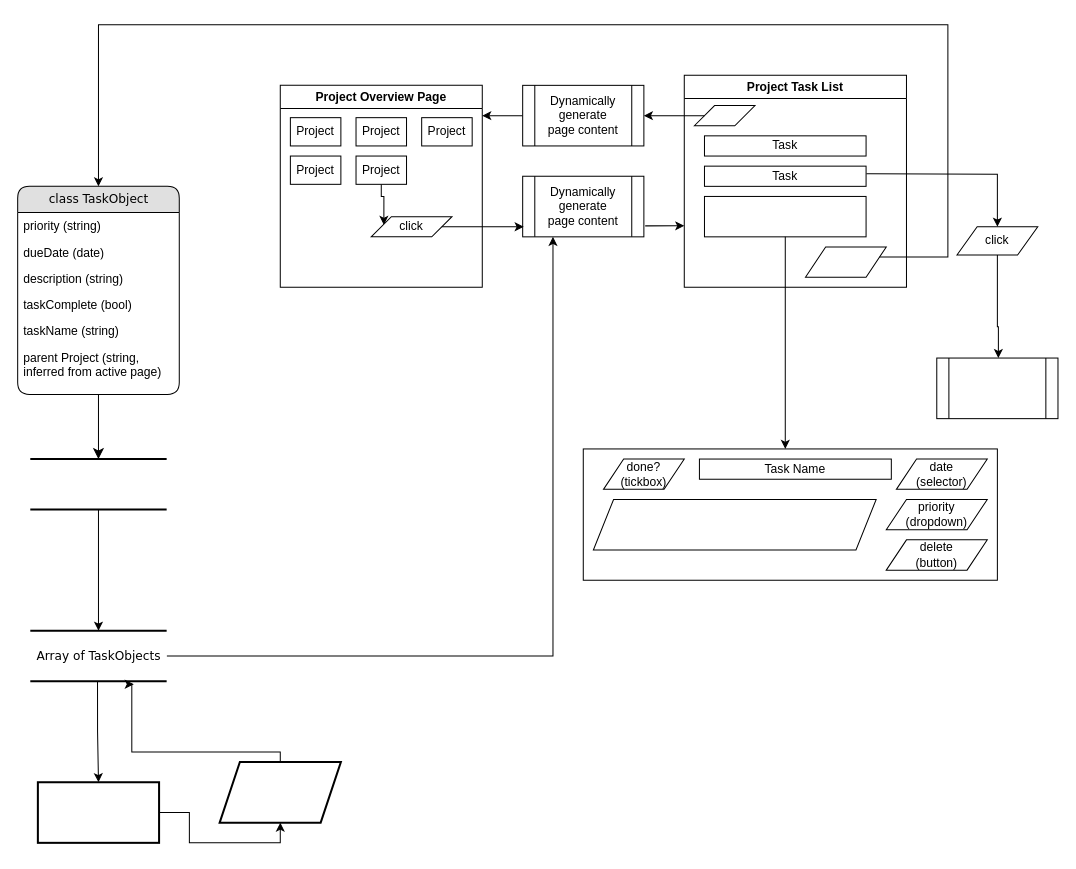
This 1076x869 diagram has some shape labels left out. The shapes that lost their labels are listed below. From the top down, each one's centre as x and y in pixels, then its label:
point (724, 115): back
point (784, 216): Expanded Task
point (845, 261): (+) button
point (997, 388): expand task
point (98, 484): TaskObject
point (734, 524): notes
point (98, 812): localStorage .setItem JSON.stringify
point (279, 792): onload .getItem
